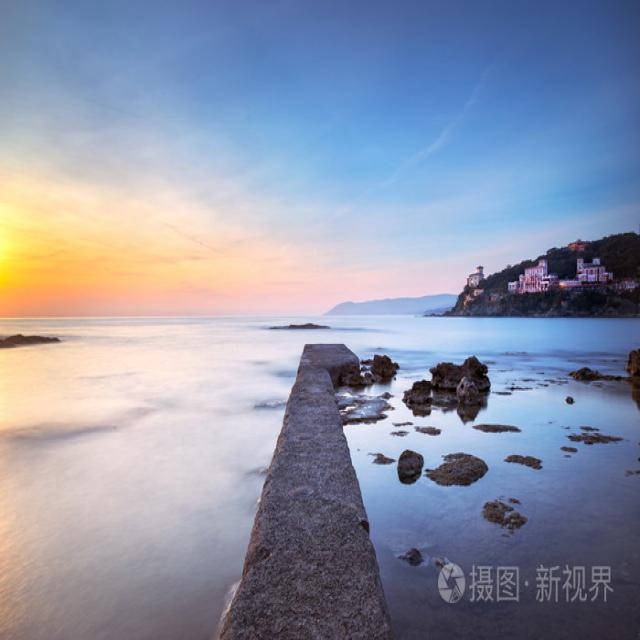island: (432, 217, 640, 318)
